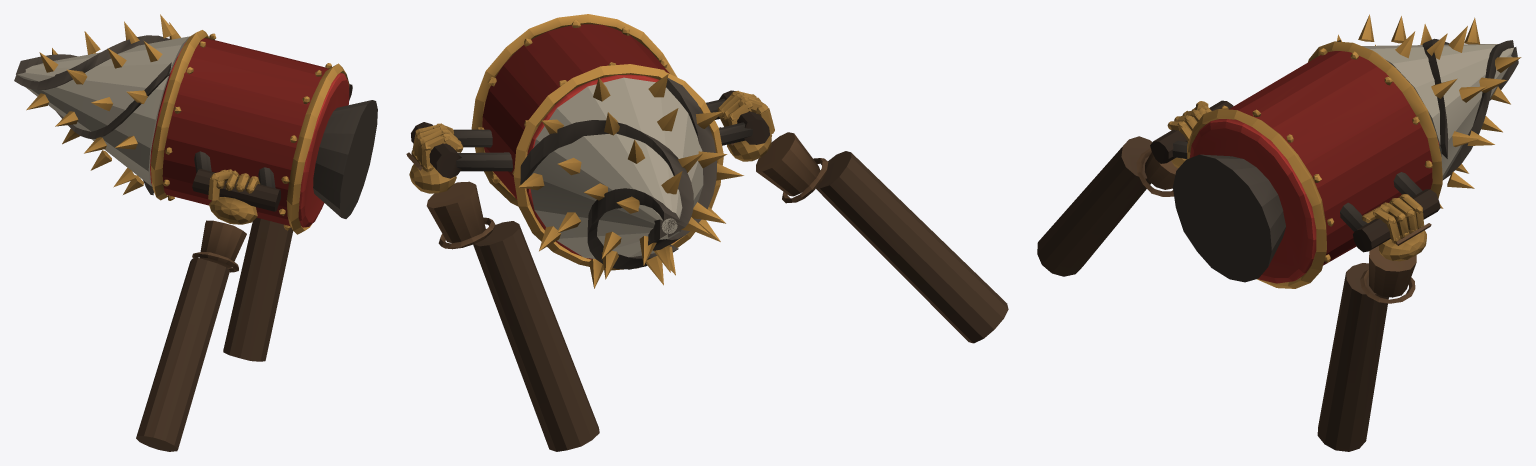
File: tool_borer.glb
The picture shows the model from 3 angles, left to right: view 1: azimuth 30°, elevation 25°; view 2: azimuth 150°, elevation 25°; view 3: azimuth 270°, elevation 25°; orthographic projection. The views are drawn at different scales.
Parts seen in each view (by area): view 1: Borer, Bit, GloveL, GloveR; view 2: Bit, Borer, GloveR, GloveL; view 3: Borer, GloveR, Bit, GloveL.
Boxes of the visible parts, box(x1,y1,x2,y2) form: Borer: box(150, 30, 377, 234); Bit: box(14, 14, 189, 195); GloveL: box(136, 169, 260, 451); GloveR: box(223, 217, 293, 361); Bit: box(519, 74, 743, 288); Borer: box(411, 14, 769, 270); GloveR: box(406, 123, 599, 451); GloveL: box(717, 90, 1008, 343); Borer: box(1150, 41, 1442, 288); GloveR: box(1317, 194, 1431, 451); Bit: box(1337, 14, 1521, 208); GloveL: box(1037, 101, 1211, 276).
Bounding box in the file's own units: 0.8452 × 0.7808 × 0.8968.
